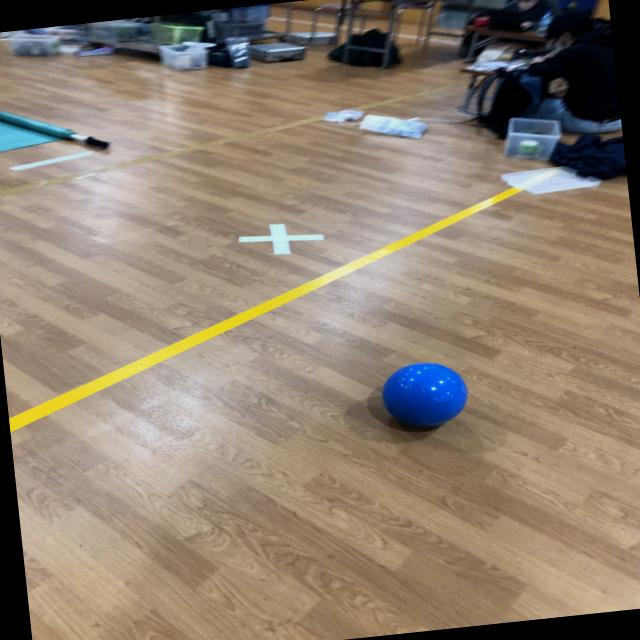blue_ball: (376, 356, 472, 432)
